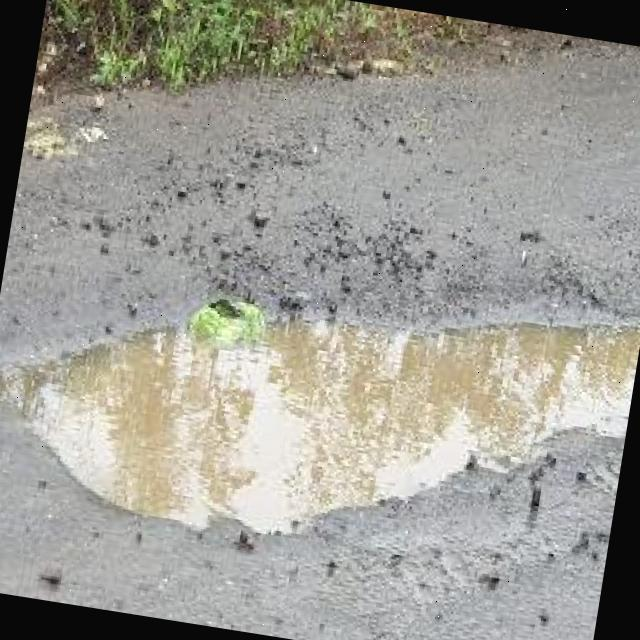stagnation: (0, 218, 640, 591)
